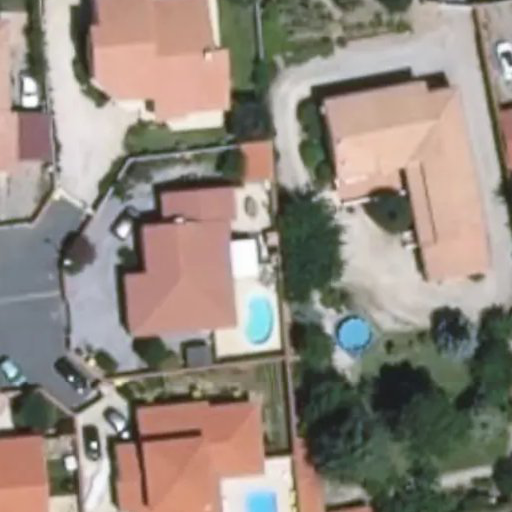pool: (238, 215, 275, 267)
